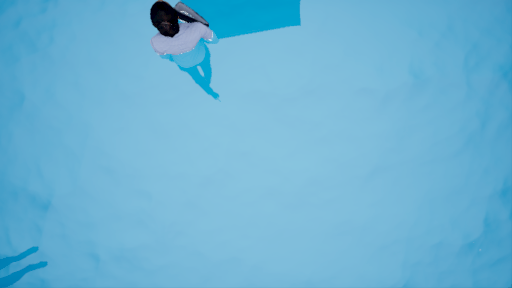person: (140, 2, 231, 106)
